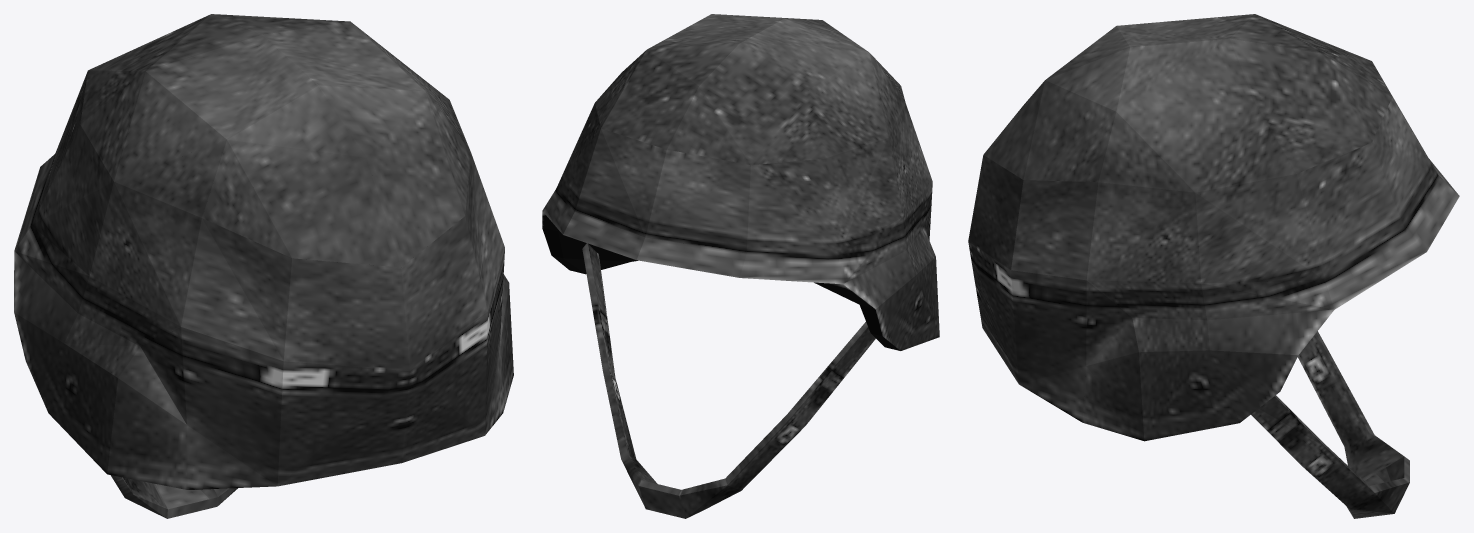
File: recovered_gear_black_battle_helmet_7c8c1ec2063c.glb
3 renders of one model, left to right at view 1: azimuth 30°, elevation 25°; view 2: azimuth 150°, elevation 25°; view 3: azimuth 270°, elevation 25°, orthographic. The views are drawn at different scales.
Visible parts, largest first — view 1: black_battle_helmet; view 2: black_battle_helmet; view 3: black_battle_helmet.
Boxes of the visible parts, bbox=[...] form: black_battle_helmet: bbox=[14, 14, 513, 518]; black_battle_helmet: bbox=[542, 14, 939, 518]; black_battle_helmet: bbox=[968, 14, 1459, 518].
Bounding box in the file's own units: 0.2343 × 0.2827 × 0.2683.
1 material, 1 textured.
